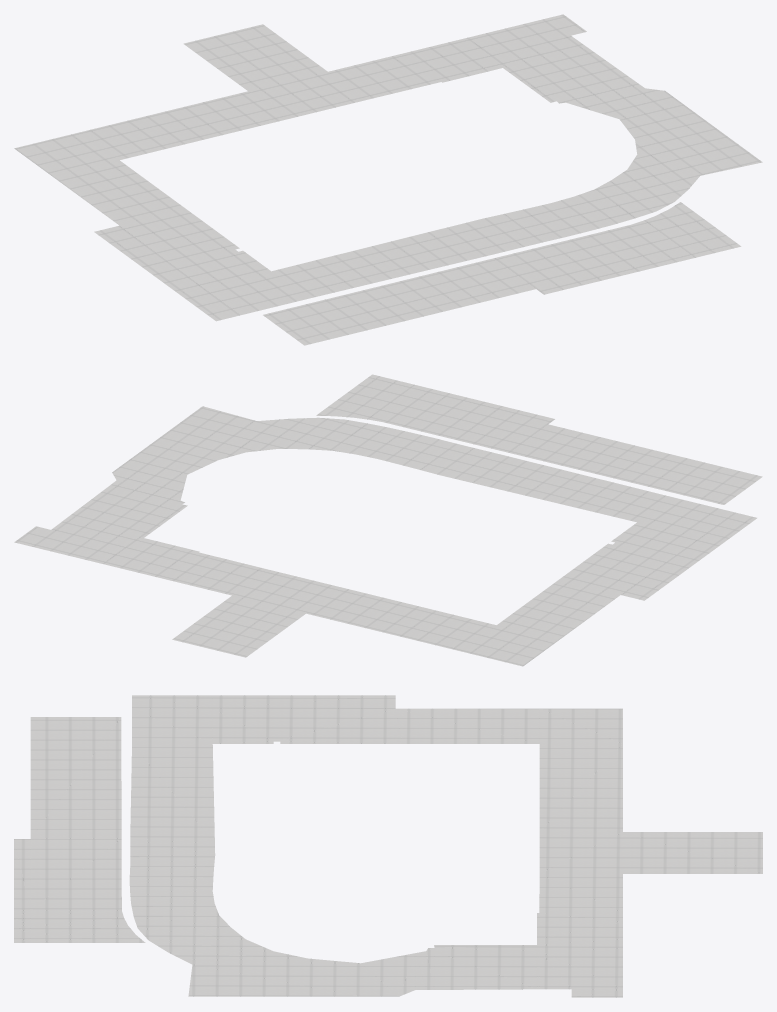
File: ceiling.fbx
3 renders of one model, top to bottom at view 1: azimuth 30°, elevation 25°; view 2: azimuth 150°, elevation 25°; view 3: azimuth 270°, elevation 25°, orthographic. The views are drawn at different scales.
Parts seen in each view (by area): view 1: ceiling; view 2: ceiling; view 3: ceiling.
Part boxes in pixels (bbox=[...]): ceiling: bbox=[14, 14, 762, 345]; ceiling: bbox=[14, 374, 762, 666]; ceiling: bbox=[14, 695, 762, 997].
Size of the model in its own units: 1963 by 0.0472 by 2054.
1 material, 1 textured.
